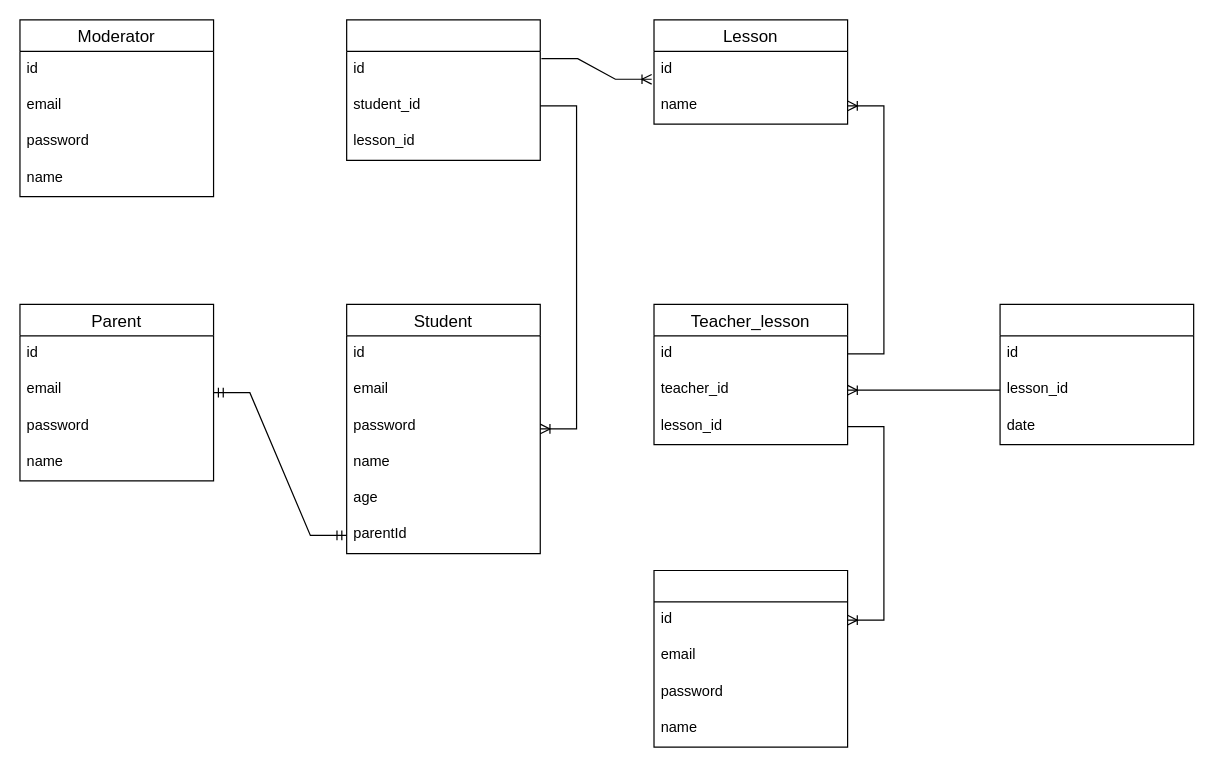
Some shapes in this 1214 by 767 pixel diagram are drawn without their labels. Here are the shapes that lost their labels. From the top down, the box of each, then its label:
(345, 19, 540, 160): Student_lesson
(999, 303, 1194, 445): Timetable
(653, 569, 848, 747): Teacher
